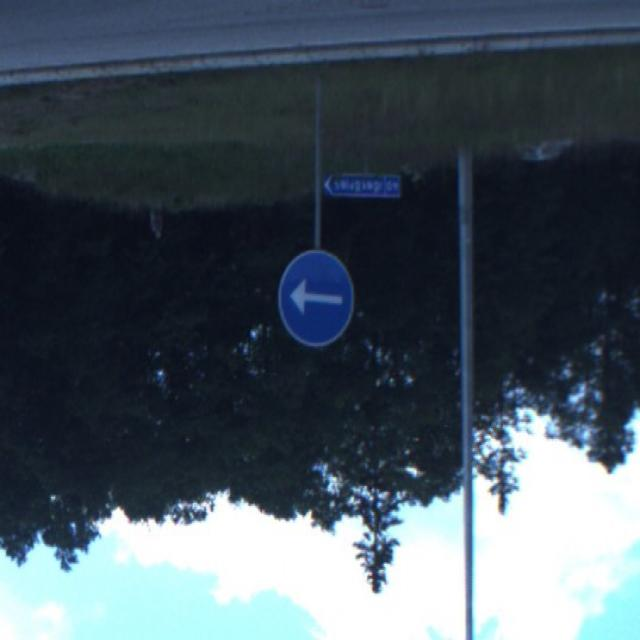Turn Left: (279, 251, 353, 350)
